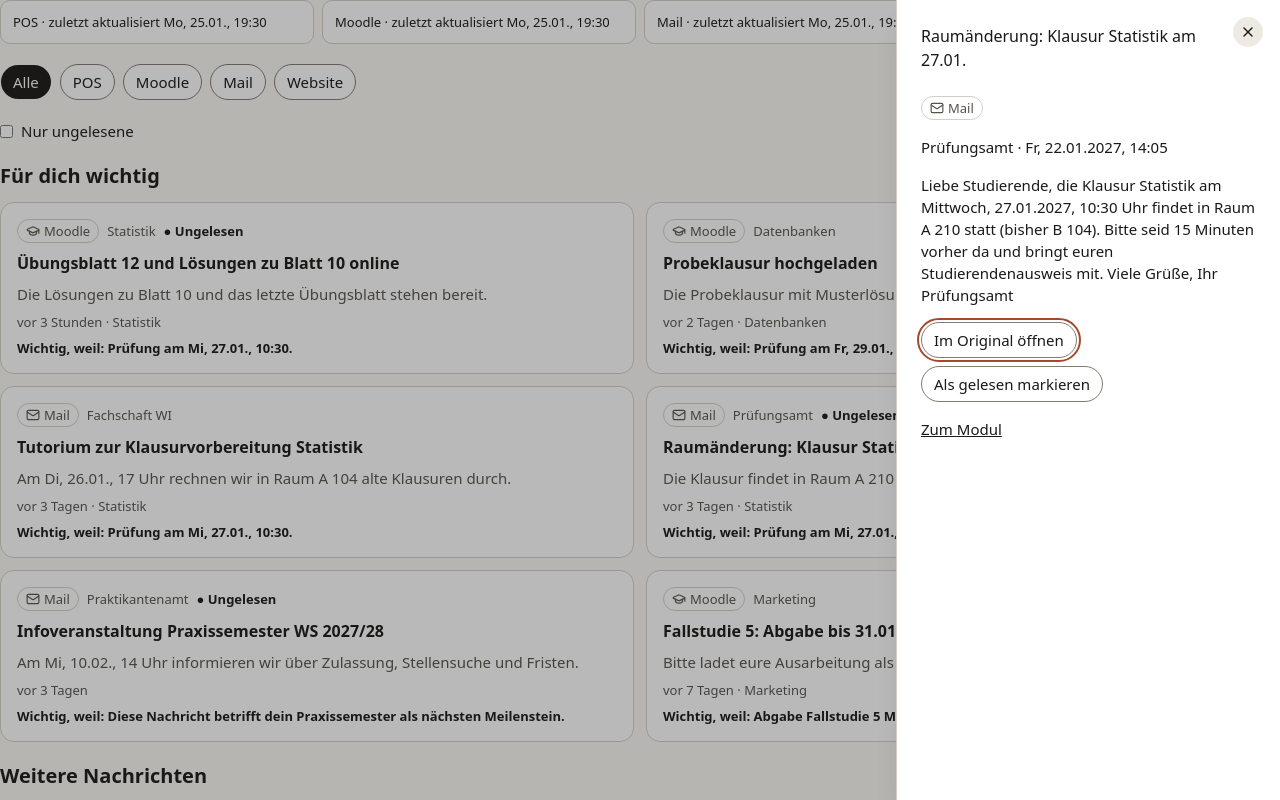
Test case: P4-02: Deep-Link, gelesen markieren und Filter
Check: the dialog shows "Raum A 210", box [921,175,1259,305]
Click the button "Als gelesen markieren".
click(1012, 384)  # box [921,366,1103,402]
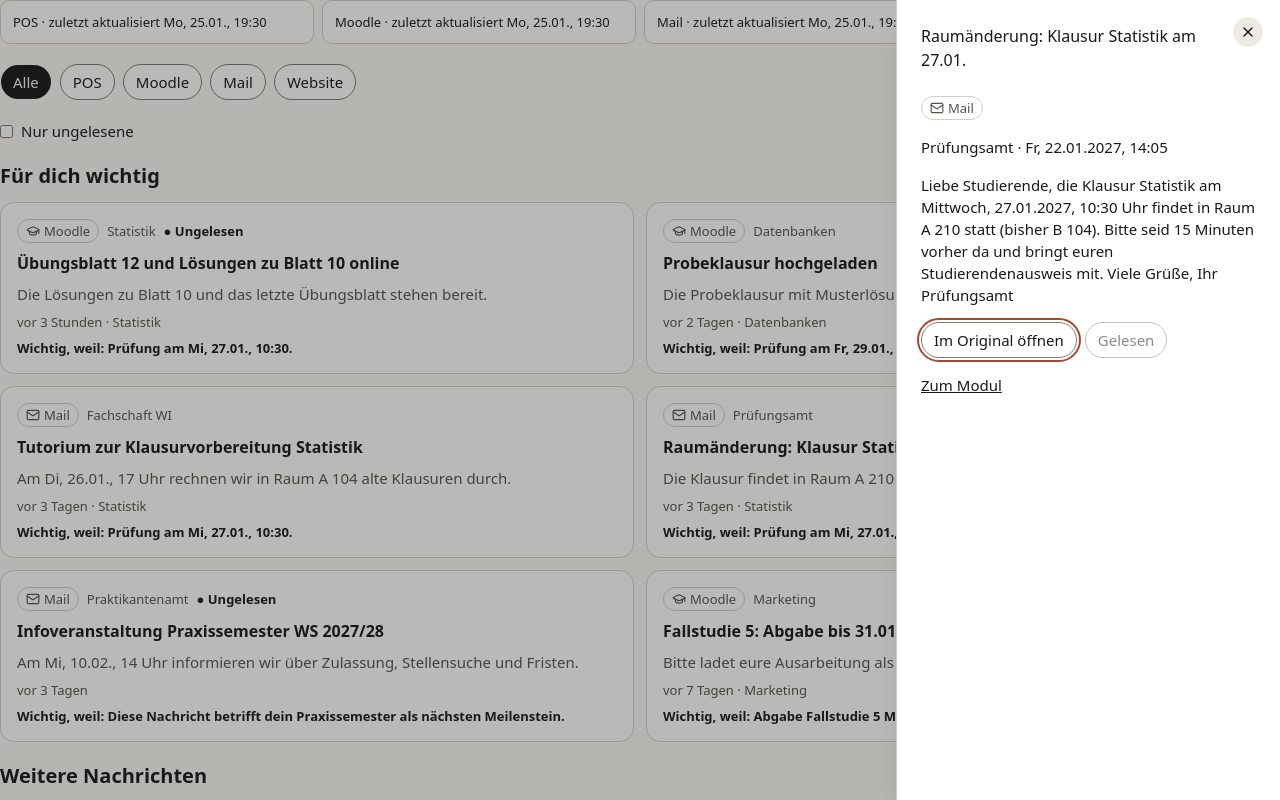
Click the button named "Schließen".
click(1248, 32)  # box [1232,16,1264,48]
Wait 300 ms
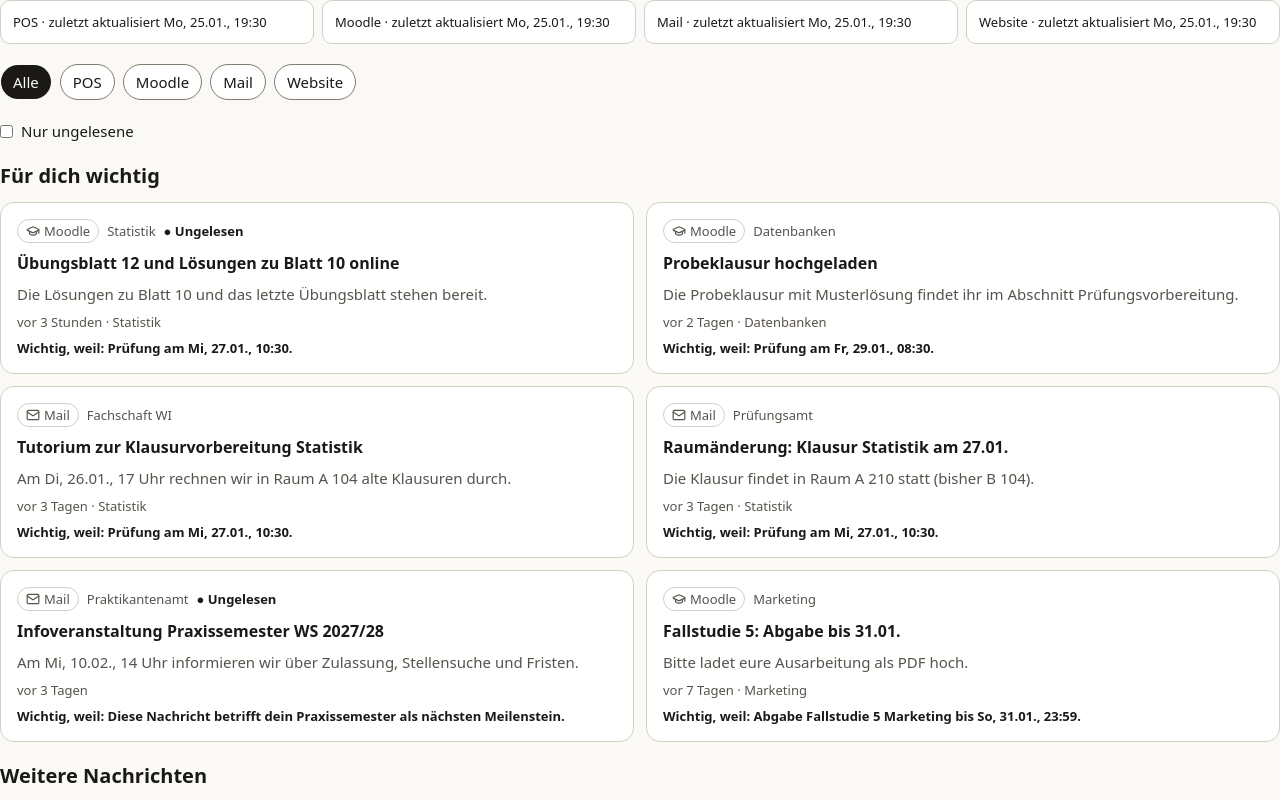
Click the button "POS".
click(87, 82)  # box [60,64,115,100]
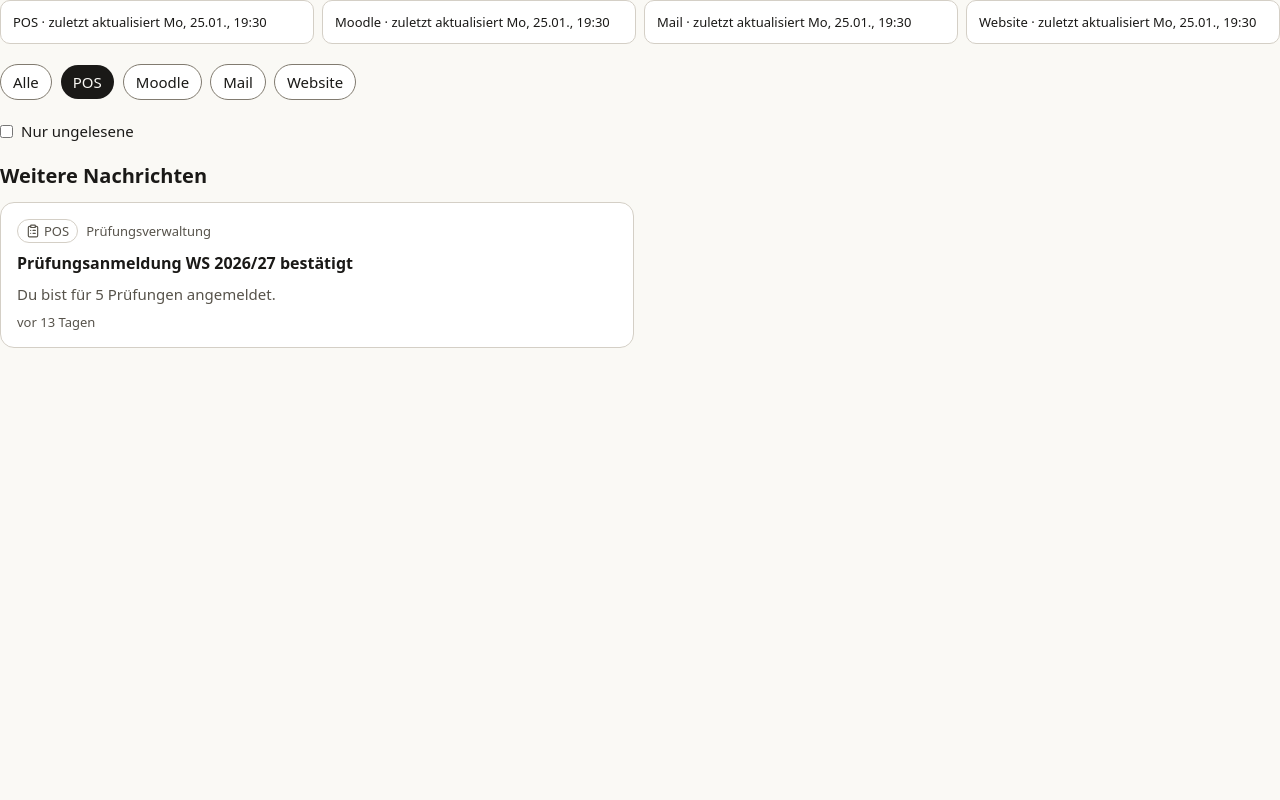
Check: the text "Prüfungsanmeldung WS 2026/27 bestätigt" is shown, box [17,252,353,274]
Check: the button "Raumänderung: Klausur Statistik am 27.01." is gone
